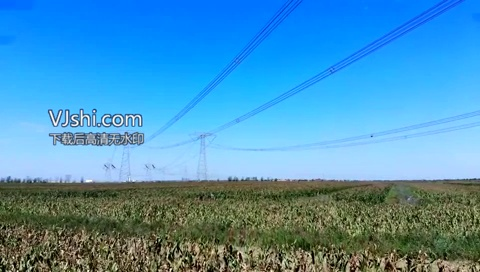tower_body: (188, 129, 217, 184)
